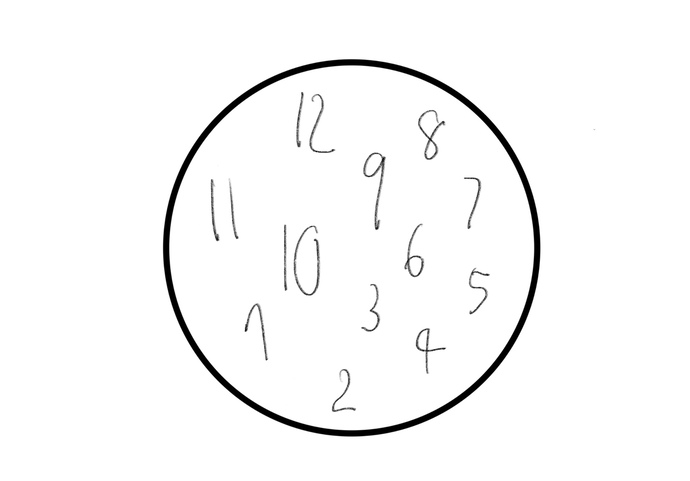eight: (413, 108, 447, 166)
eleven: (204, 174, 243, 243)
five: (463, 268, 493, 316)
four: (413, 326, 446, 374)
nine: (356, 147, 390, 232)
one: (237, 299, 271, 361)
seven: (453, 174, 488, 234)
six: (402, 217, 430, 279)
ten: (276, 218, 324, 298)
three: (357, 278, 383, 334)
twelve: (289, 88, 338, 157)
two: (324, 364, 361, 415)
